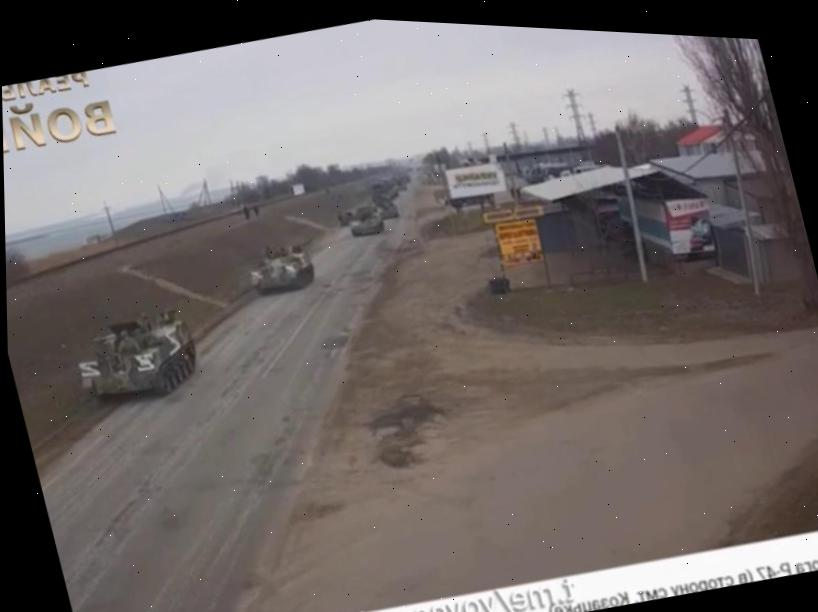tank: (69, 300, 206, 416), (242, 236, 320, 301), (338, 200, 388, 248), (367, 196, 402, 230)
